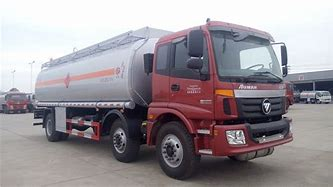oil truck: (29, 16, 291, 179)
